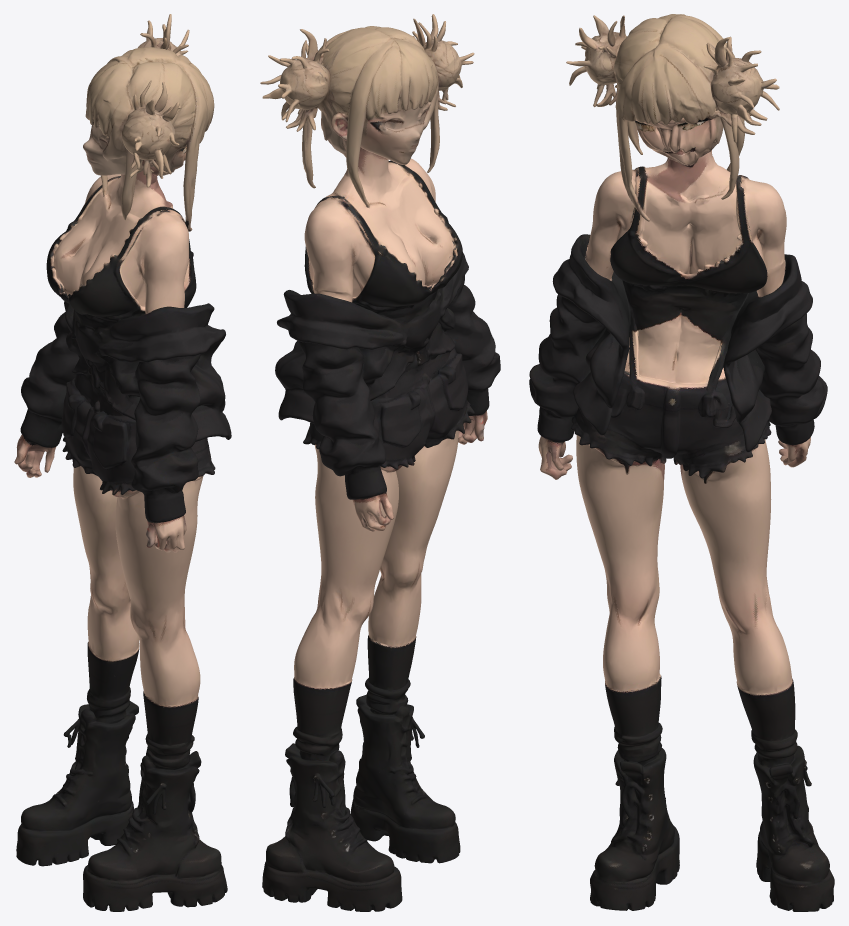
The model's file is personaje-2.glb.
3 views of the same model, side by side, from view 1: azimuth 30°, elevation 25°; view 2: azimuth 150°, elevation 25°; view 3: azimuth 270°, elevation 25° (orthographic). The views are drawn at different scales.
Visible parts, largest first — view 1: tripo_node_73c10b1b-6035-4f4a-ac78-e69fd28a723c; view 2: tripo_node_73c10b1b-6035-4f4a-ac78-e69fd28a723c; view 3: tripo_node_73c10b1b-6035-4f4a-ac78-e69fd28a723c.
Boxes of the visible parts, x1,y1,x2,y2 form: tripo_node_73c10b1b-6035-4f4a-ac78-e69fd28a723c: (14,14,231,911); tripo_node_73c10b1b-6035-4f4a-ac78-e69fd28a723c: (260,14,500,911); tripo_node_73c10b1b-6035-4f4a-ac78-e69fd28a723c: (529,14,834,911).
Size of the model in its own units: 0.1957 by 1 by 0.3151.
Materials: 1 (1 with a texture image).
